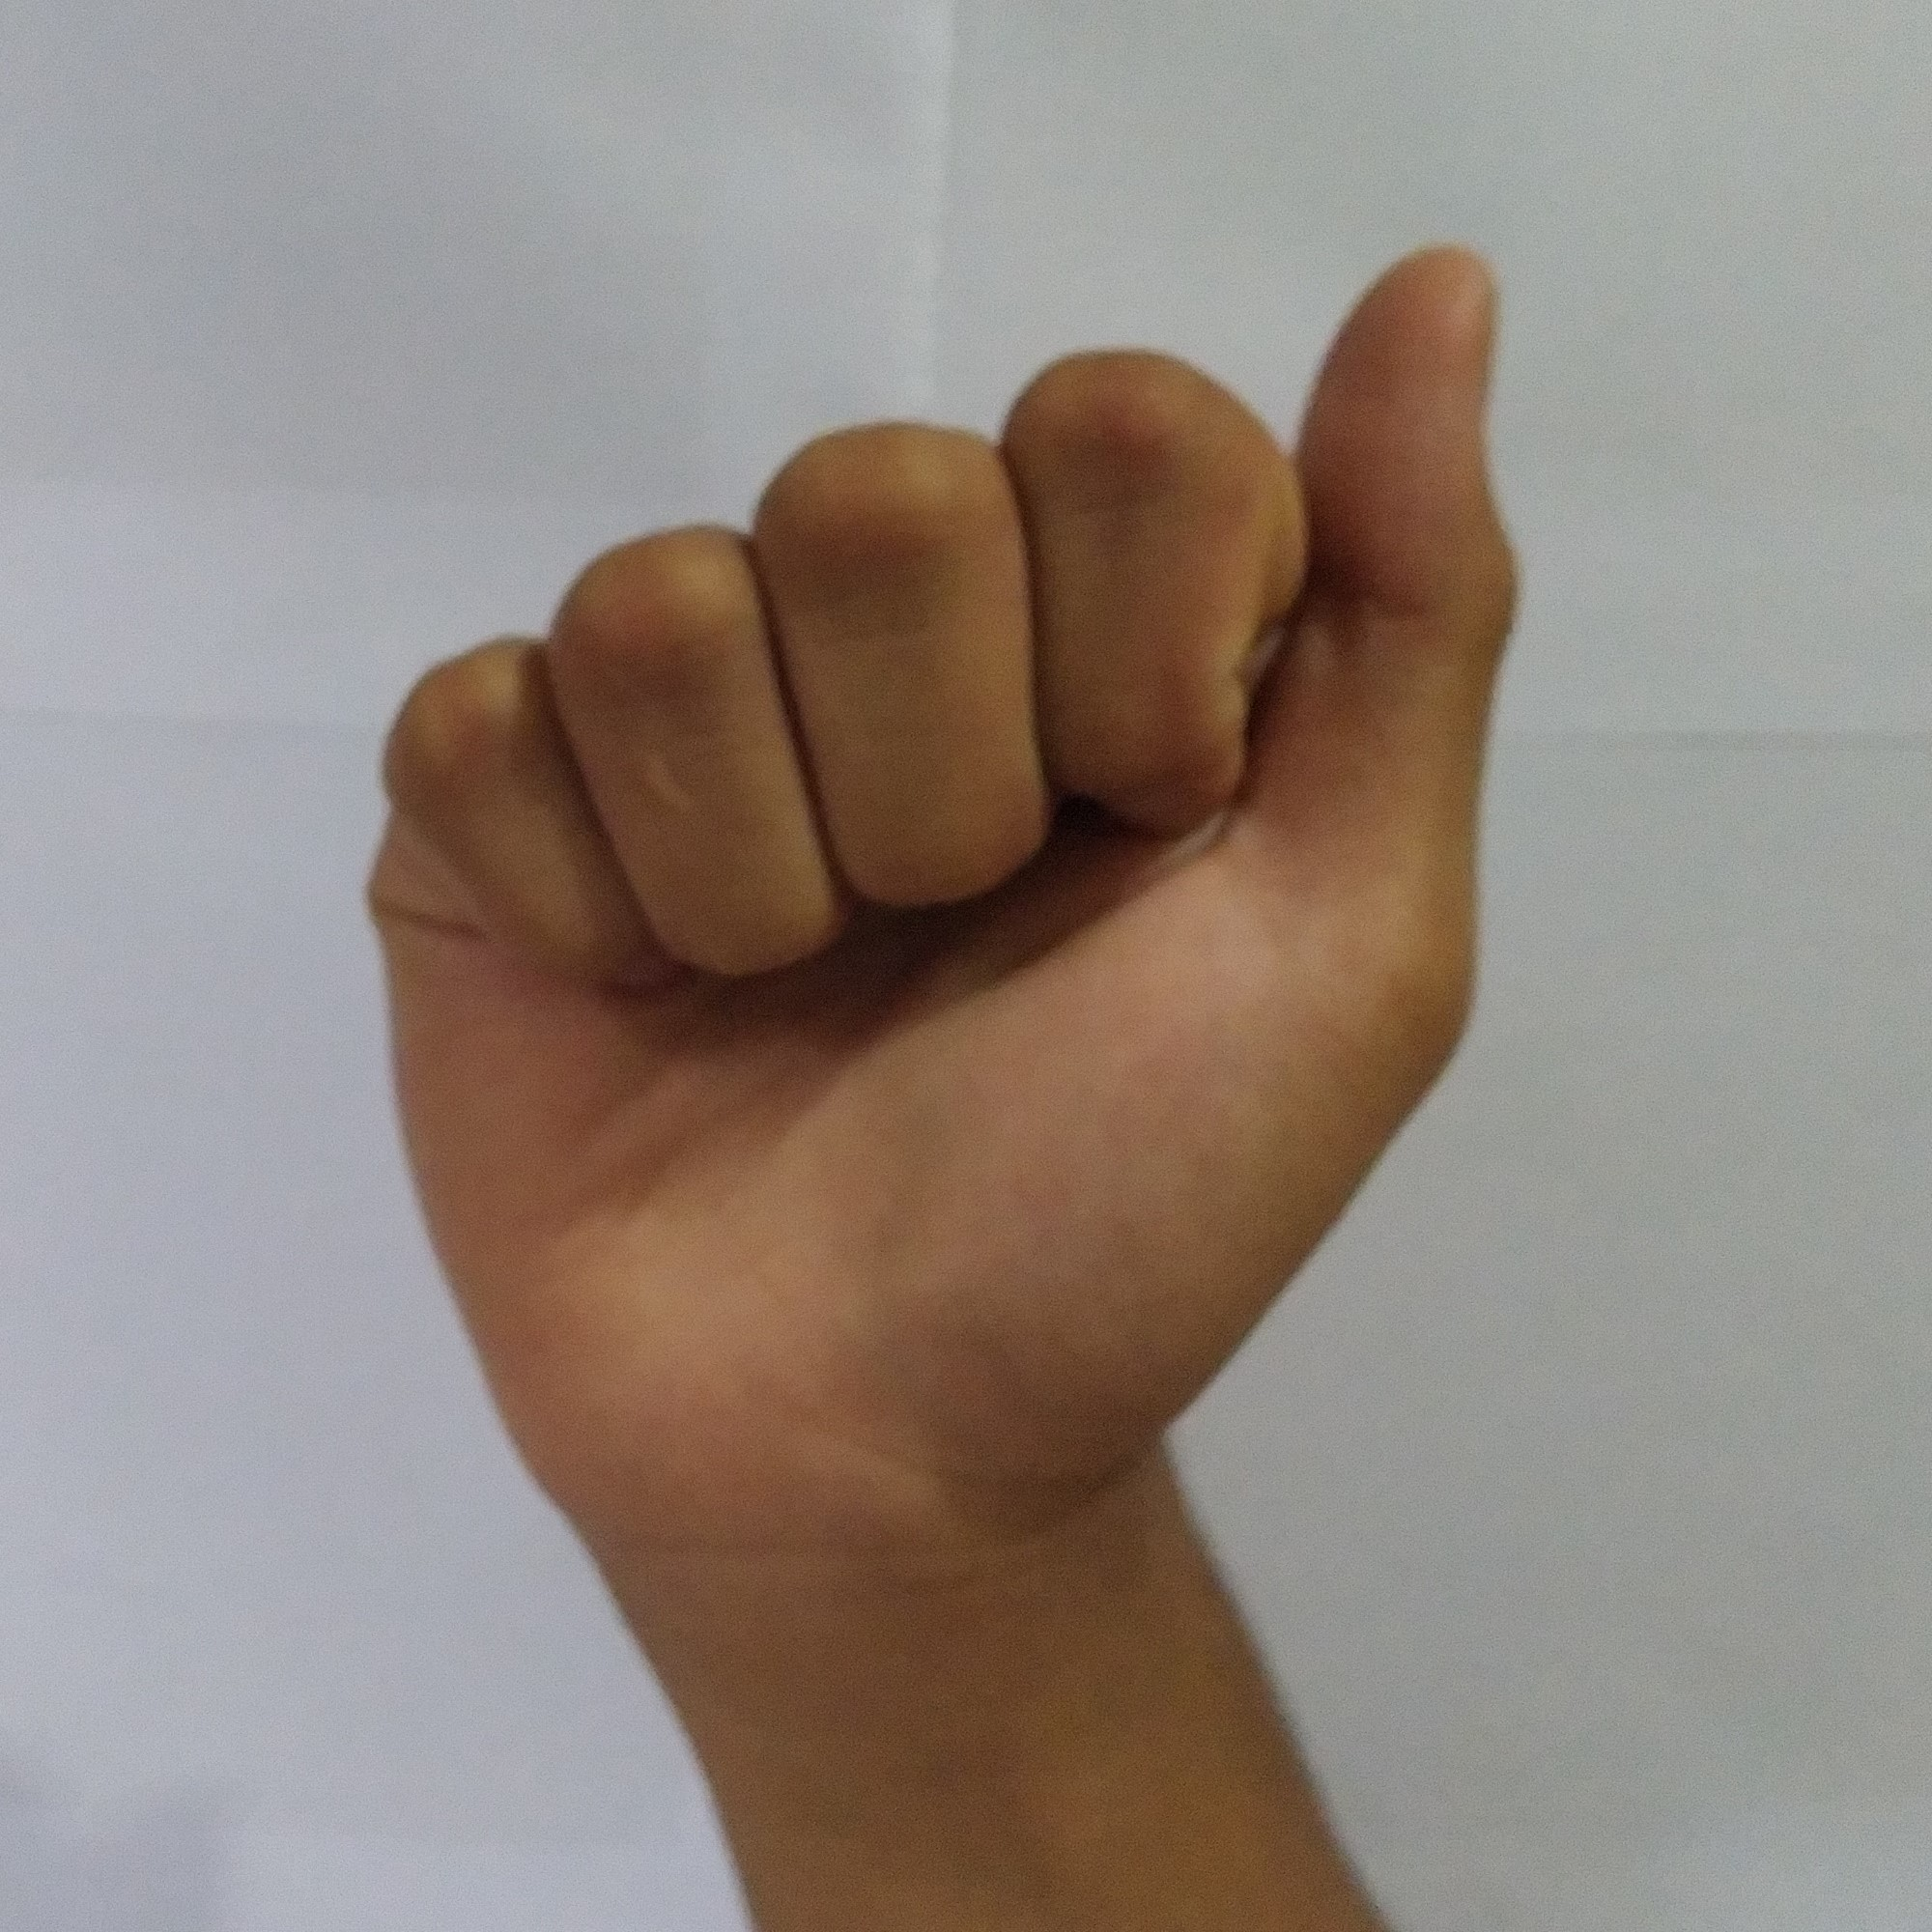A: (343, 219, 1537, 1539)
